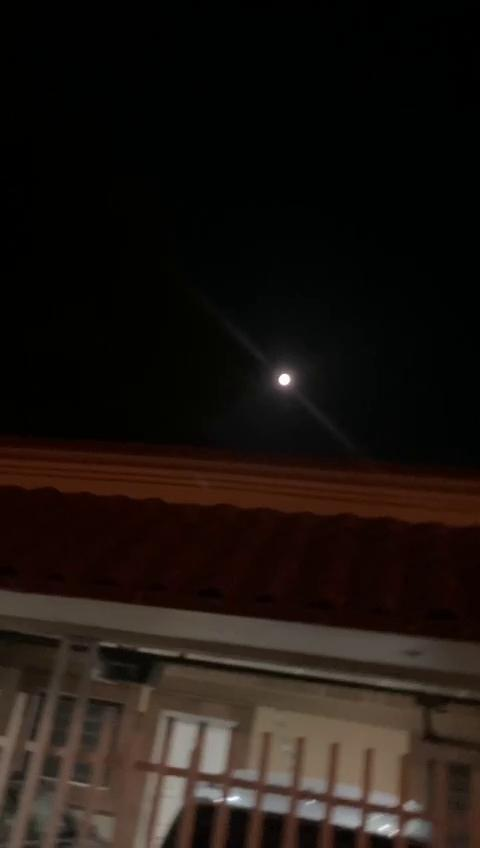moon: (262, 364, 308, 400)
